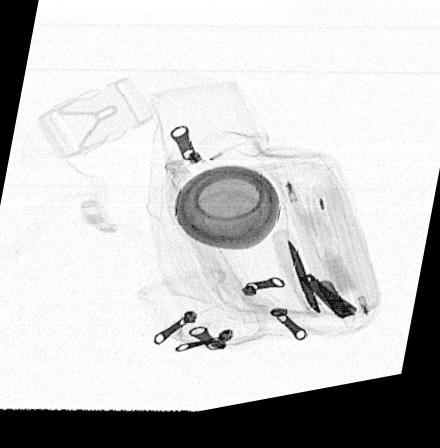Knife: (270, 239, 322, 327)
